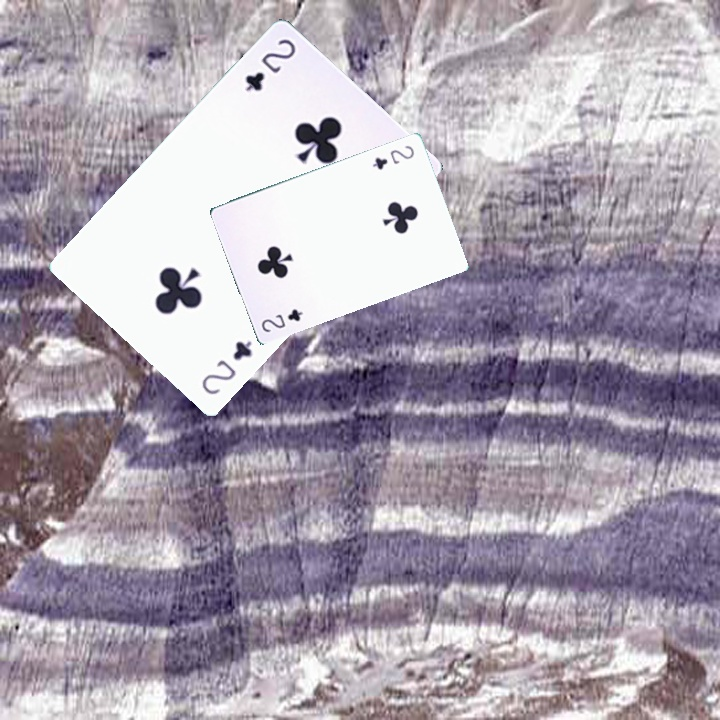2c: (197, 336, 255, 398), (241, 34, 299, 94), (369, 141, 417, 172), (257, 304, 305, 335)
